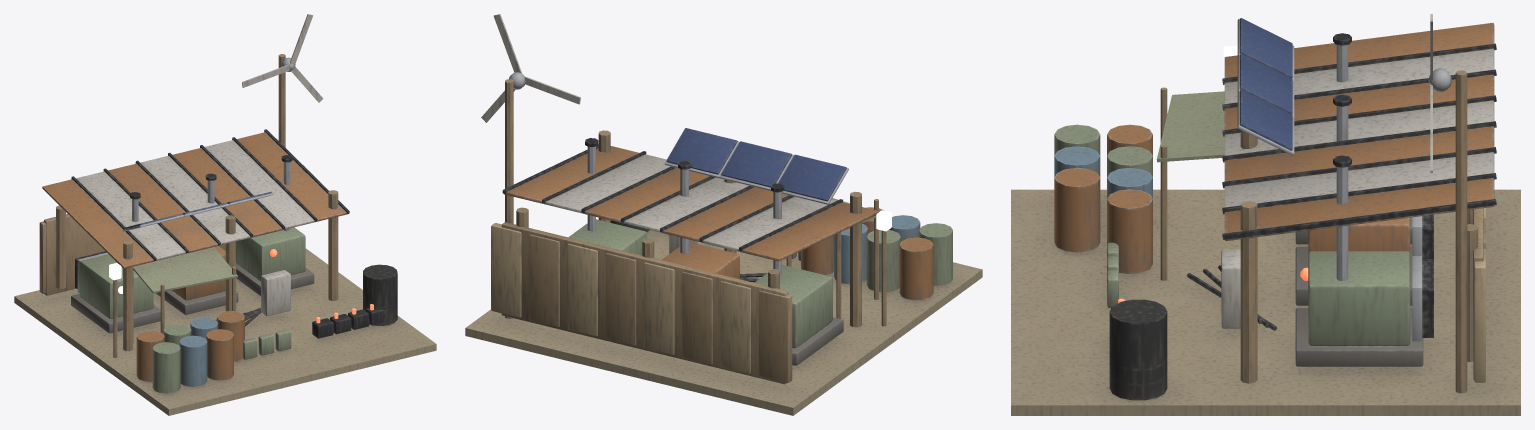
File: shadow_power.glb
The picture shows the model from 3 angles, left to right: view 1: azimuth 30°, elevation 25°; view 2: azimuth 150°, elevation 25°; view 3: azimuth 270°, elevation 25°; orthographic projection. The views are drawn at different scales.
Parts seen in each view (by area): view 1: Hull; view 2: Hull; view 3: Hull.
Part boxes in pixels (box(x1,y1,x2,y2)): Hull: box(14, 14, 436, 415); Hull: box(465, 14, 982, 415); Hull: box(1011, 14, 1520, 415).
Size of the model in its own units: 6.31 by 5.21 by 6.
Materials: 15 (15 with a texture image).
